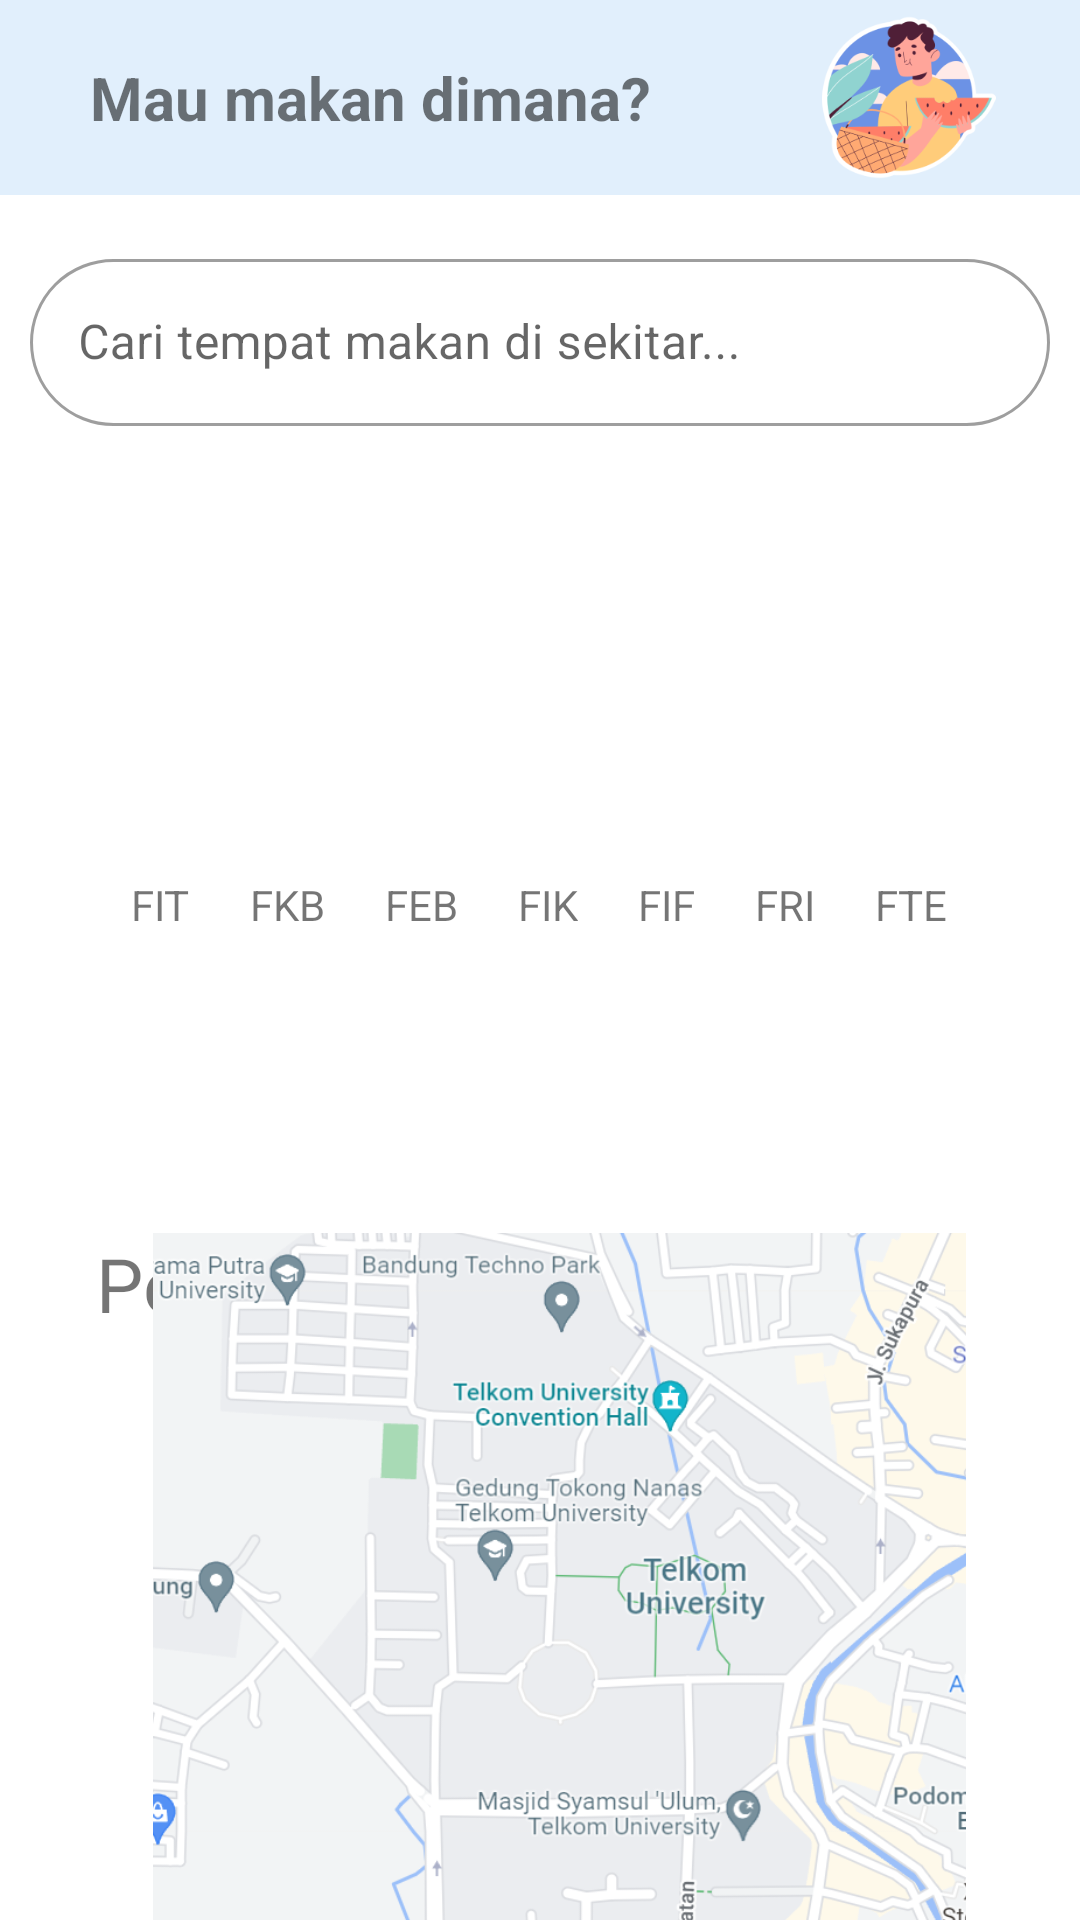

Locate icon controls on the screen. Image size 1080*1920, boxes as [left=x1, top=y1, right=x2, bottom=y2].
eating: [left=822, top=18, right=996, bottom=177]
